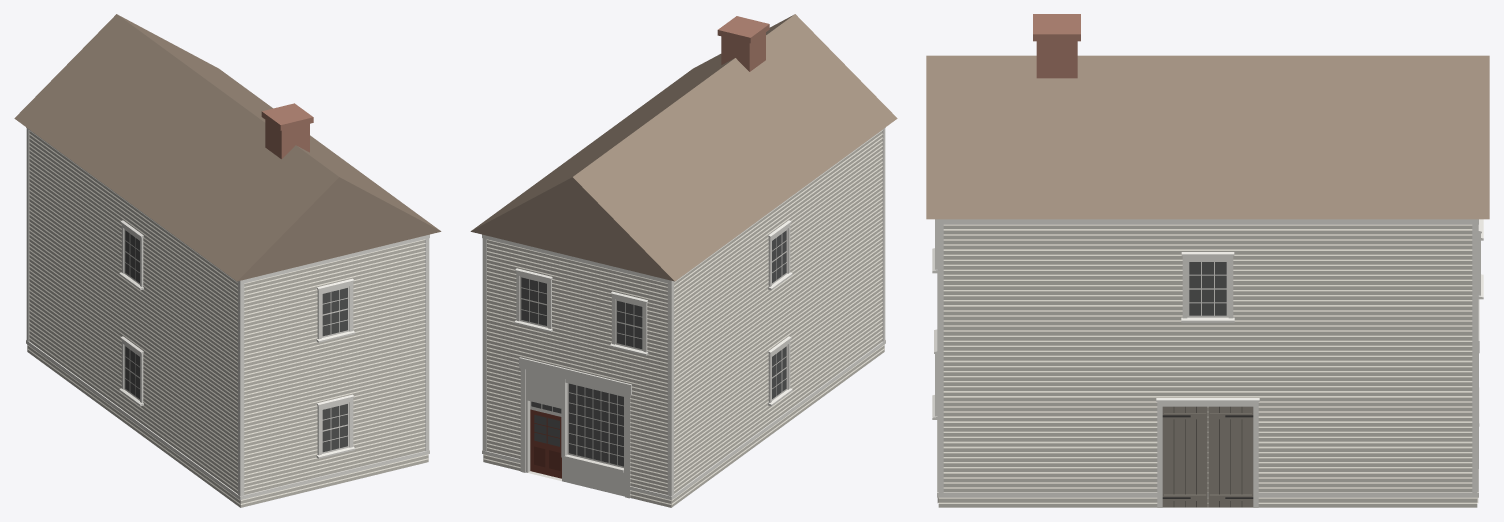
File: recon_1835_gifford_c3_014__inferred_1835.glb
The picture shows the model from 3 angles, left to right: view 1: azimuth 30°, elevation 25°; view 2: azimuth 150°, elevation 25°; view 3: azimuth 270°, elevation 25°; orthographic projection. The views are drawn at different scales.
Visible parts, largest first — view 1: recon_1835_gifford_c3_014__inferred_1835; view 2: recon_1835_gifford_c3_014__inferred_1835; view 3: recon_1835_gifford_c3_014__inferred_1835.
Part boxes in pixels (left/top/right/bottom): recon_1835_gifford_c3_014__inferred_1835: left=14, top=14, right=441, bottom=507; recon_1835_gifford_c3_014__inferred_1835: left=470, top=14, right=897, bottom=507; recon_1835_gifford_c3_014__inferred_1835: left=926, top=14, right=1489, bottom=507.
Bounding box in the file's own units: 6.1 × 9.58 × 11.5.
